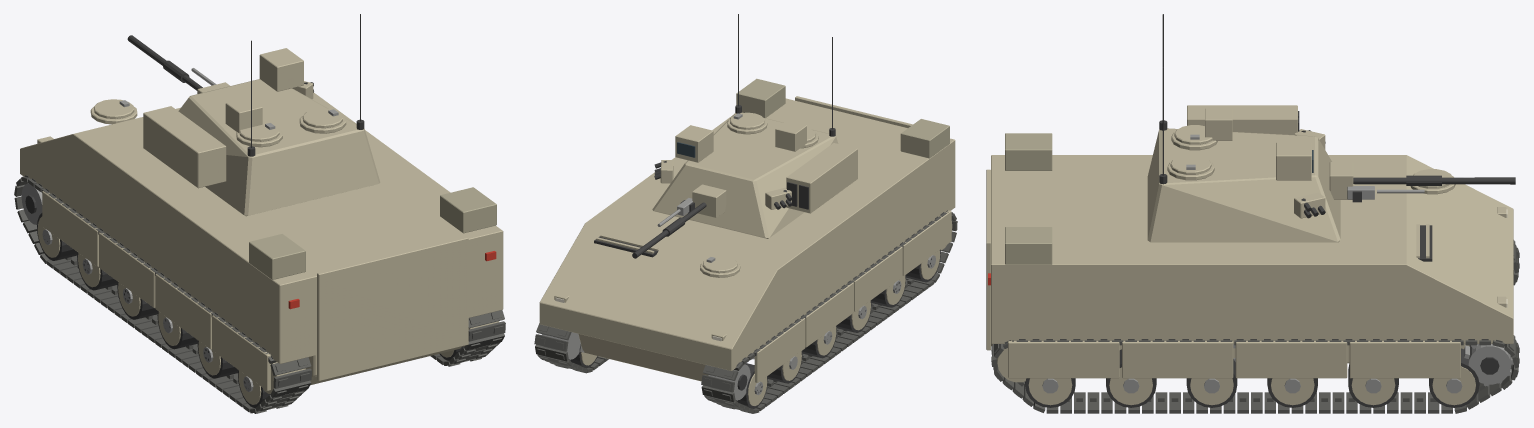
File: usa_ifv_m3a3.glb
3 views of the same model, side by side, from view 1: azimuth 30°, elevation 25°; view 2: azimuth 150°, elevation 25°; view 3: azimuth 270°, elevation 25° (orthographic). The views are drawn at different scales.
Visible parts, largest first — view 1: body, turret, barrel; view 2: body, turret, barrel; view 3: body, turret, barrel.
Part boxes in pixels (x1,y1,x2,y2): body: [14, 92, 505, 413]; turret: [143, 14, 380, 216]; barrel: [127, 35, 229, 93]; body: [534, 78, 957, 413]; turret: [652, 14, 857, 238]; barrel: [632, 184, 726, 258]; body: [986, 133, 1519, 413]; turret: [1147, 14, 1340, 242]; barrel: [1329, 162, 1515, 202].
Size of the model in its own units: 3.4 by 4.42 by 6.74.
